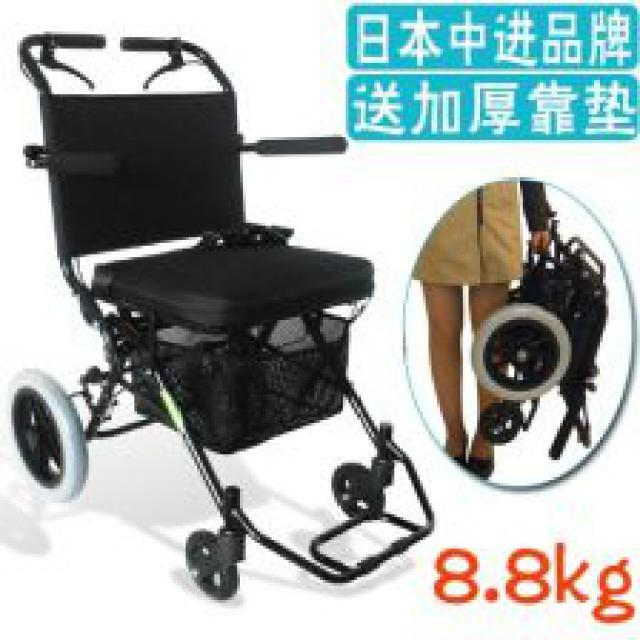wheelchair: (6, 26, 434, 586)
